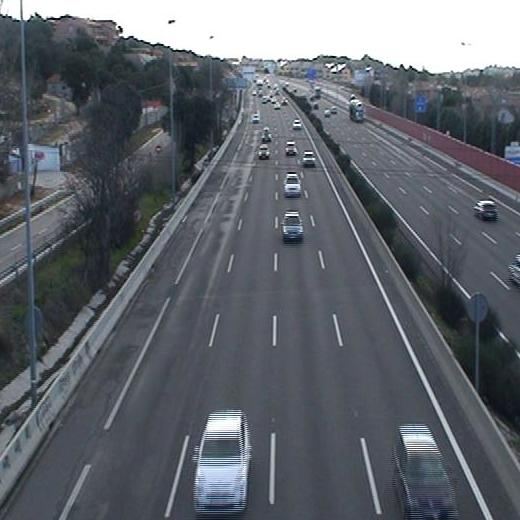car: (190, 409, 254, 514), (281, 209, 305, 242), (283, 172, 304, 195), (302, 150, 317, 168), (256, 144, 270, 160), (284, 141, 297, 156)
